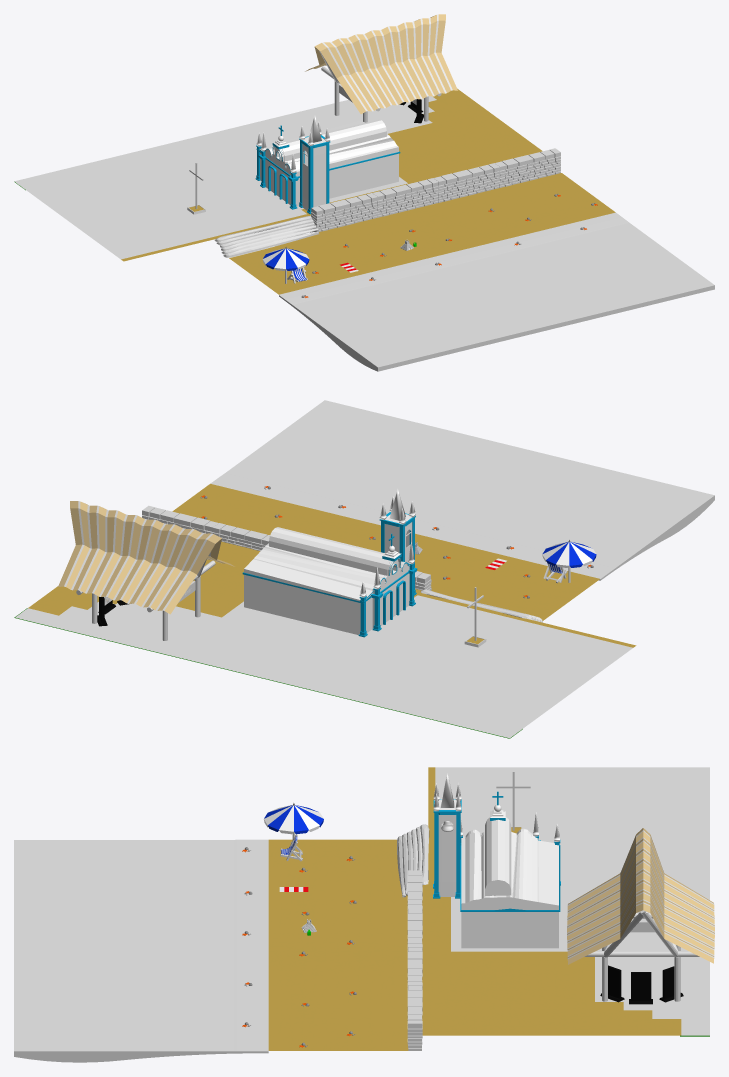
File: beach_FULLteste.fbx
3 views of the same model, one above another, from view 1: azimuth 30°, elevation 25°; view 2: azimuth 150°, elevation 25°; view 3: azimuth 270°, elevation 25° (orthographic). The views are drawn at different scales.
Parts seen in each view (by area): view 1: Plane.005, Mar, Mar.001, Plane.006, Plane.003, Plane.007, Plane.002, Cube.059, areia.001, areia, Stairs, Wall (+6 smaller); view 2: Plane.005, Mar, Mar.001, Plane.006, Plane.007, Cube.059, Plane.002, Plane.003, Cylinder.001, areia.001, areia, Cone (+5 smaller); view 3: Plane.006, Mar.001, Mar, Plane.005, Plane.003, Plane.002, Plane.007, Cube.059, areia, areia.001, Cylinder.001, Stairs (+11 smaller).
Part boxes in pixels (left/top/right/bottom): Plane.005: left=14, top=136, right=309, bottom=261; Mar: left=279, top=264, right=546, bottom=371; Mar.001: left=461, top=222, right=714, bottom=330; Plane.006: left=201, top=88, right=542, bottom=215; Plane.003: left=393, top=173, right=615, bottom=253; Plane.007: left=305, top=14, right=457, bottom=114; Plane.002: left=229, top=214, right=446, bottom=294; Cube.059: left=259, top=121, right=400, bottom=206; areia.001: left=447, top=212, right=628, bottom=263; areia: left=279, top=254, right=460, bottom=304; Stairs: left=214, top=215, right=318, bottom=257; Wall: left=311, top=193, right=377, bottom=231; Plane.005: left=294, top=593, right=636, bottom=738; Mar: left=421, top=448, right=714, bottom=580; Mar.001: left=226, top=400, right=519, bottom=519; Plane.006: left=15, top=541, right=421, bottom=685; Plane.007: left=58, top=501, right=234, bottom=614; Cube.059: left=242, top=543, right=410, bottom=634; Plane.002: left=378, top=533, right=599, bottom=620; Plane.003: left=172, top=483, right=380, bottom=551; Cylinder.001: left=269, top=527, right=401, bottom=577; areia.001: left=210, top=472, right=420, bottom=525; areia: left=415, top=520, right=615, bottom=578; Cone: left=542, top=541, right=596, bottom=567; Plane.006: left=422, top=884, right=709, bottom=1035; Mar.001: left=14, top=945, right=268, bottom=1062; Mar: left=14, top=840, right=233, bottom=945; Plane.005: left=428, top=767, right=709, bottom=884; Plane.003: left=268, top=945, right=408, bottom=1050; Plane.002: left=268, top=839, right=407, bottom=945; Plane.007: left=567, top=828, right=714, bottom=964; Cube.059: left=460, top=829, right=560, bottom=948; areia: left=234, top=839, right=268, bottom=945; areia.001: left=234, top=945, right=268, bottom=1051; Cylinder.001: left=485, top=817, right=511, bottom=895; Stairs: left=397, top=824, right=429, bottom=897.
Bounding box in the file's own units: 4234 × 1054 × 4642.
